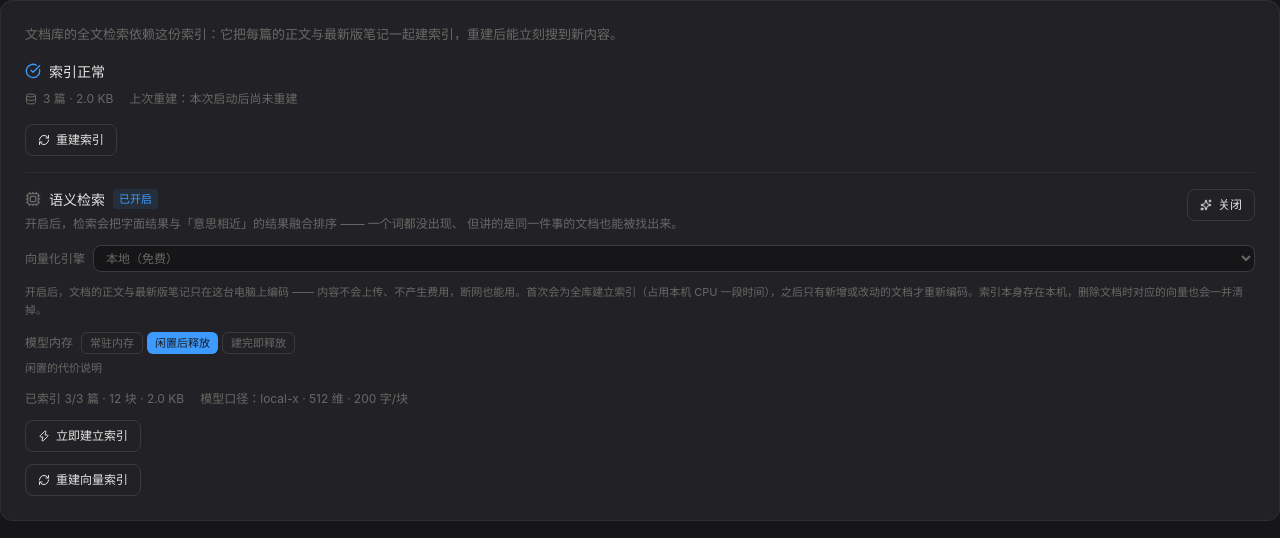
Test case: SearchIndexCard — 模型内存三档 › 点另一档 → 带 `release` 发请求（模型名不传，保持当前引擎）
Check: the element that starts with "语义检索" is shown, box 25,172 -> 1255,496
Click the button "建完即释放" at (258, 343), box 222,332 -> 295,354
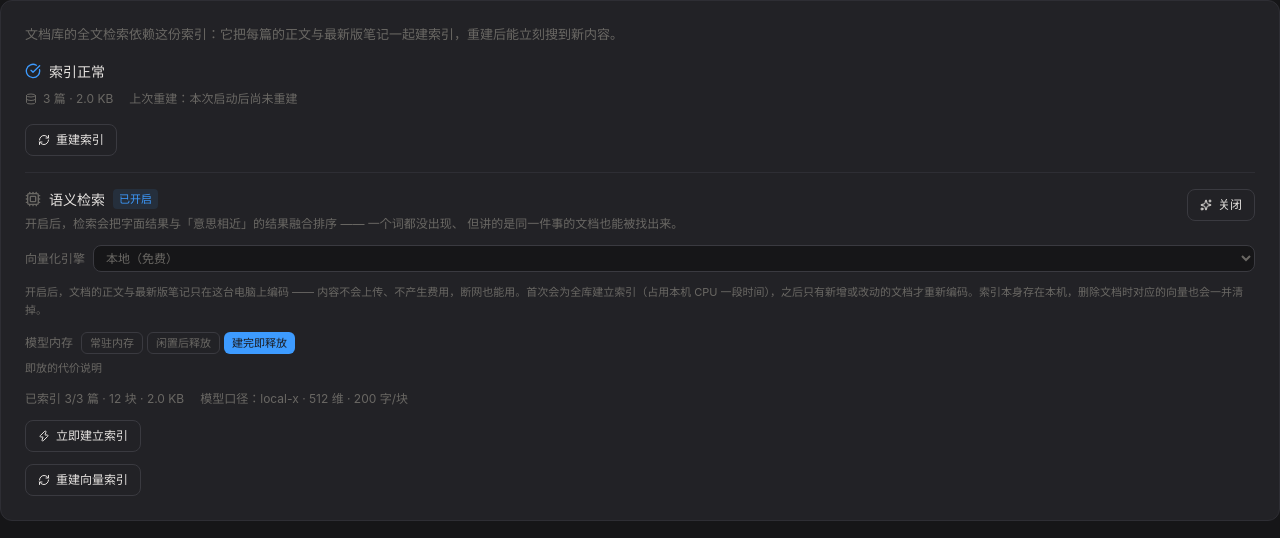
Check: the element showing "模型内存 常驻内存 闲置后释放 建完即释放 即放的代价说明" is shown, box 25,332 -> 295,375
